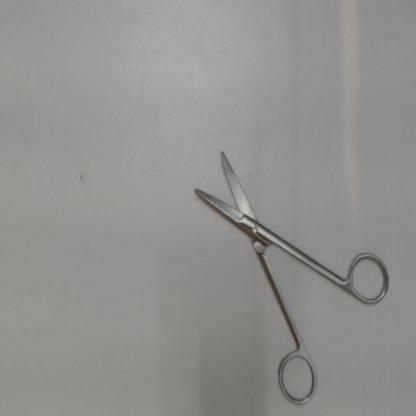Curved Mayo Scissors: (184, 137, 395, 412)
